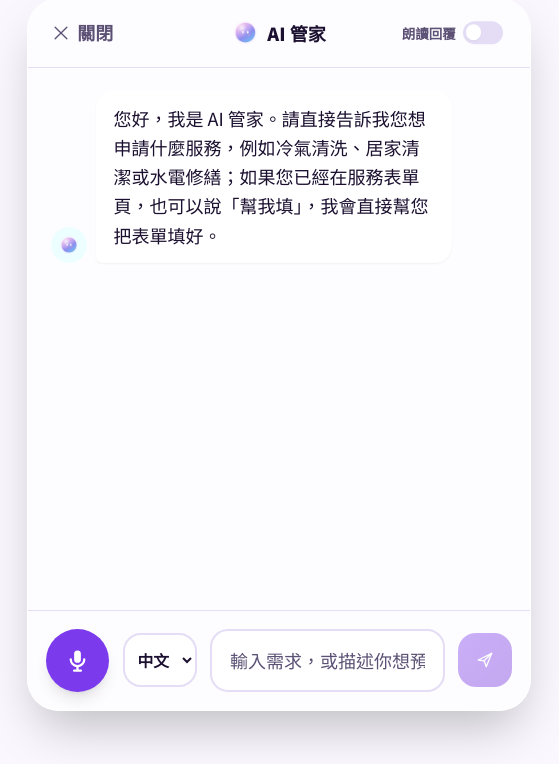
Test: ButlerPanel 代操表單 › reads the latest AI reply aloud when enabled
Click the switch named "朗讀 AI 回覆" at (452, 33), box [397,17,508,48]
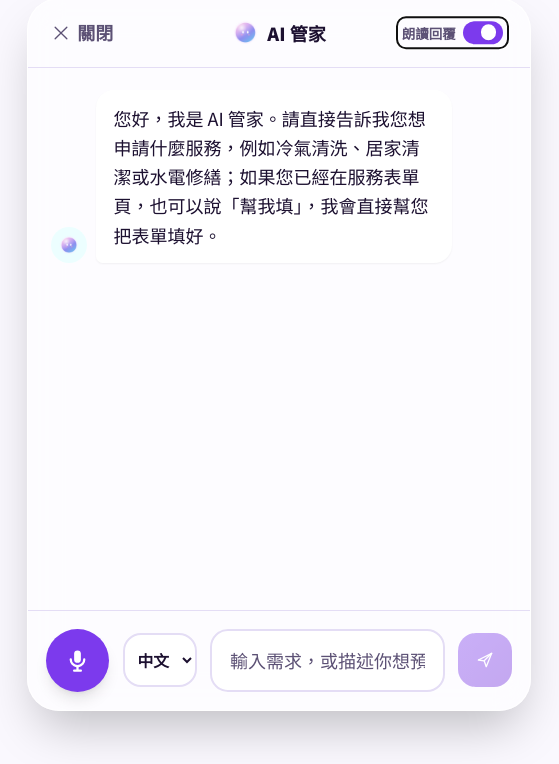
Type "幫我填" into the field labelled "輸入需求" at (327, 660), box [210,629,444,692]
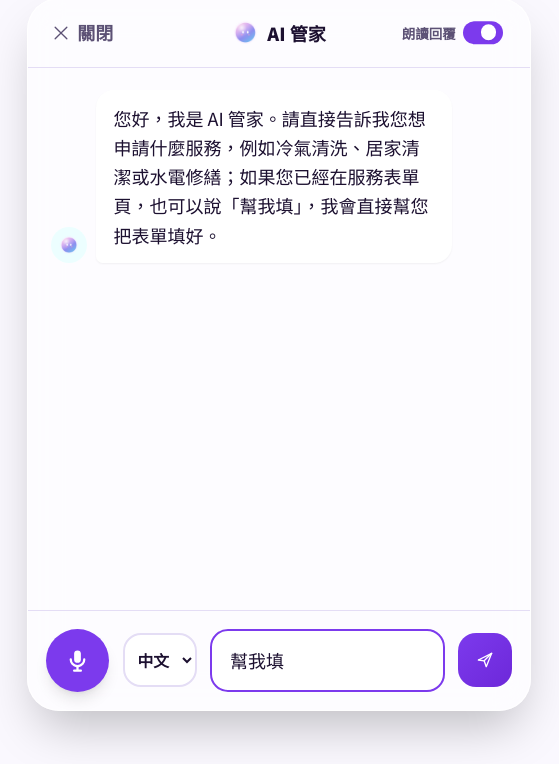
Click the button named "送出" at (485, 660), box [458,633,512,687]
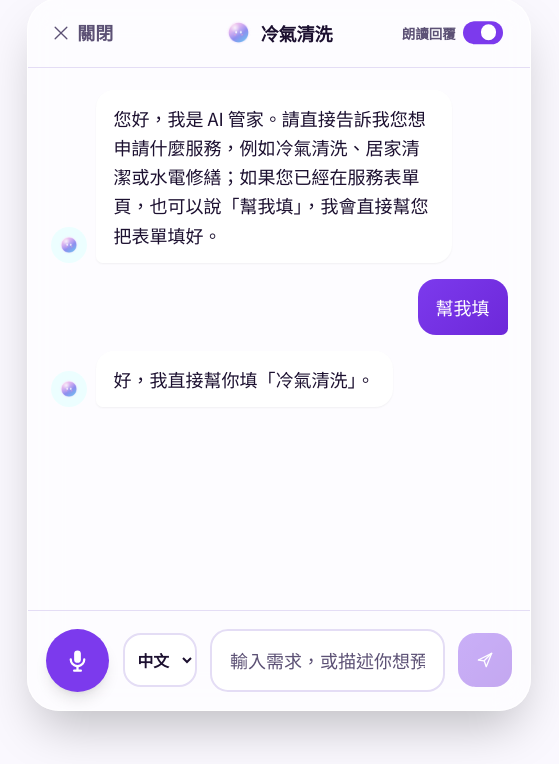
Result: the text "好，我直接幫你填「冷氣清洗」。" is shown at [96,351,392,407]
